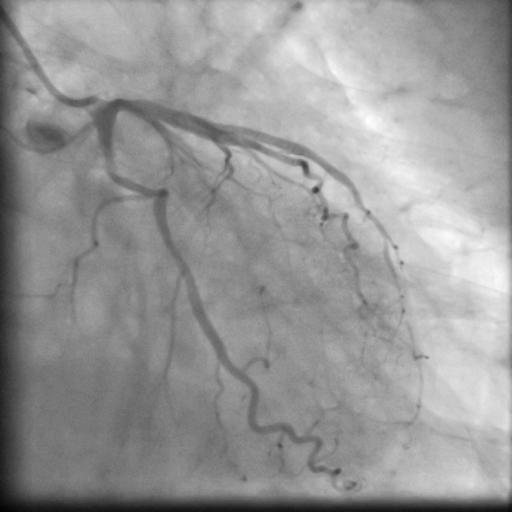Stenosis: (137, 178, 160, 200)
